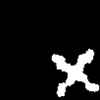single_crochet: (52, 49, 98, 96)
